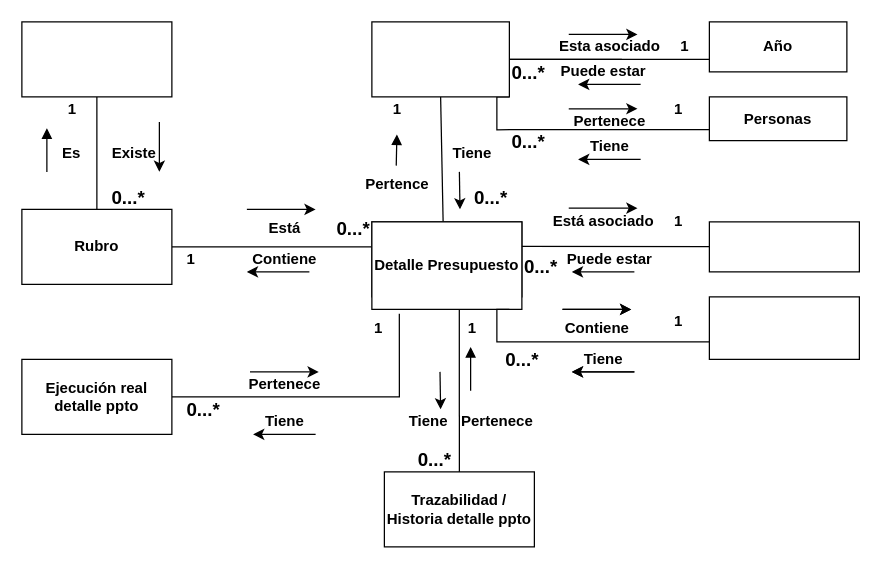
The diagram is 881 pixels wide and 569 high, and some of its shapes have lost their labels. The shapes that lost their labels are listed below. From the top down, each one's centre as x and y in pixels, then its label:
(x=96, y=59): Tipo de Rubro
(x=440, y=59): Presupuesto
(x=783, y=246): Mes
(x=783, y=327): Tipo Detalle Ppto
